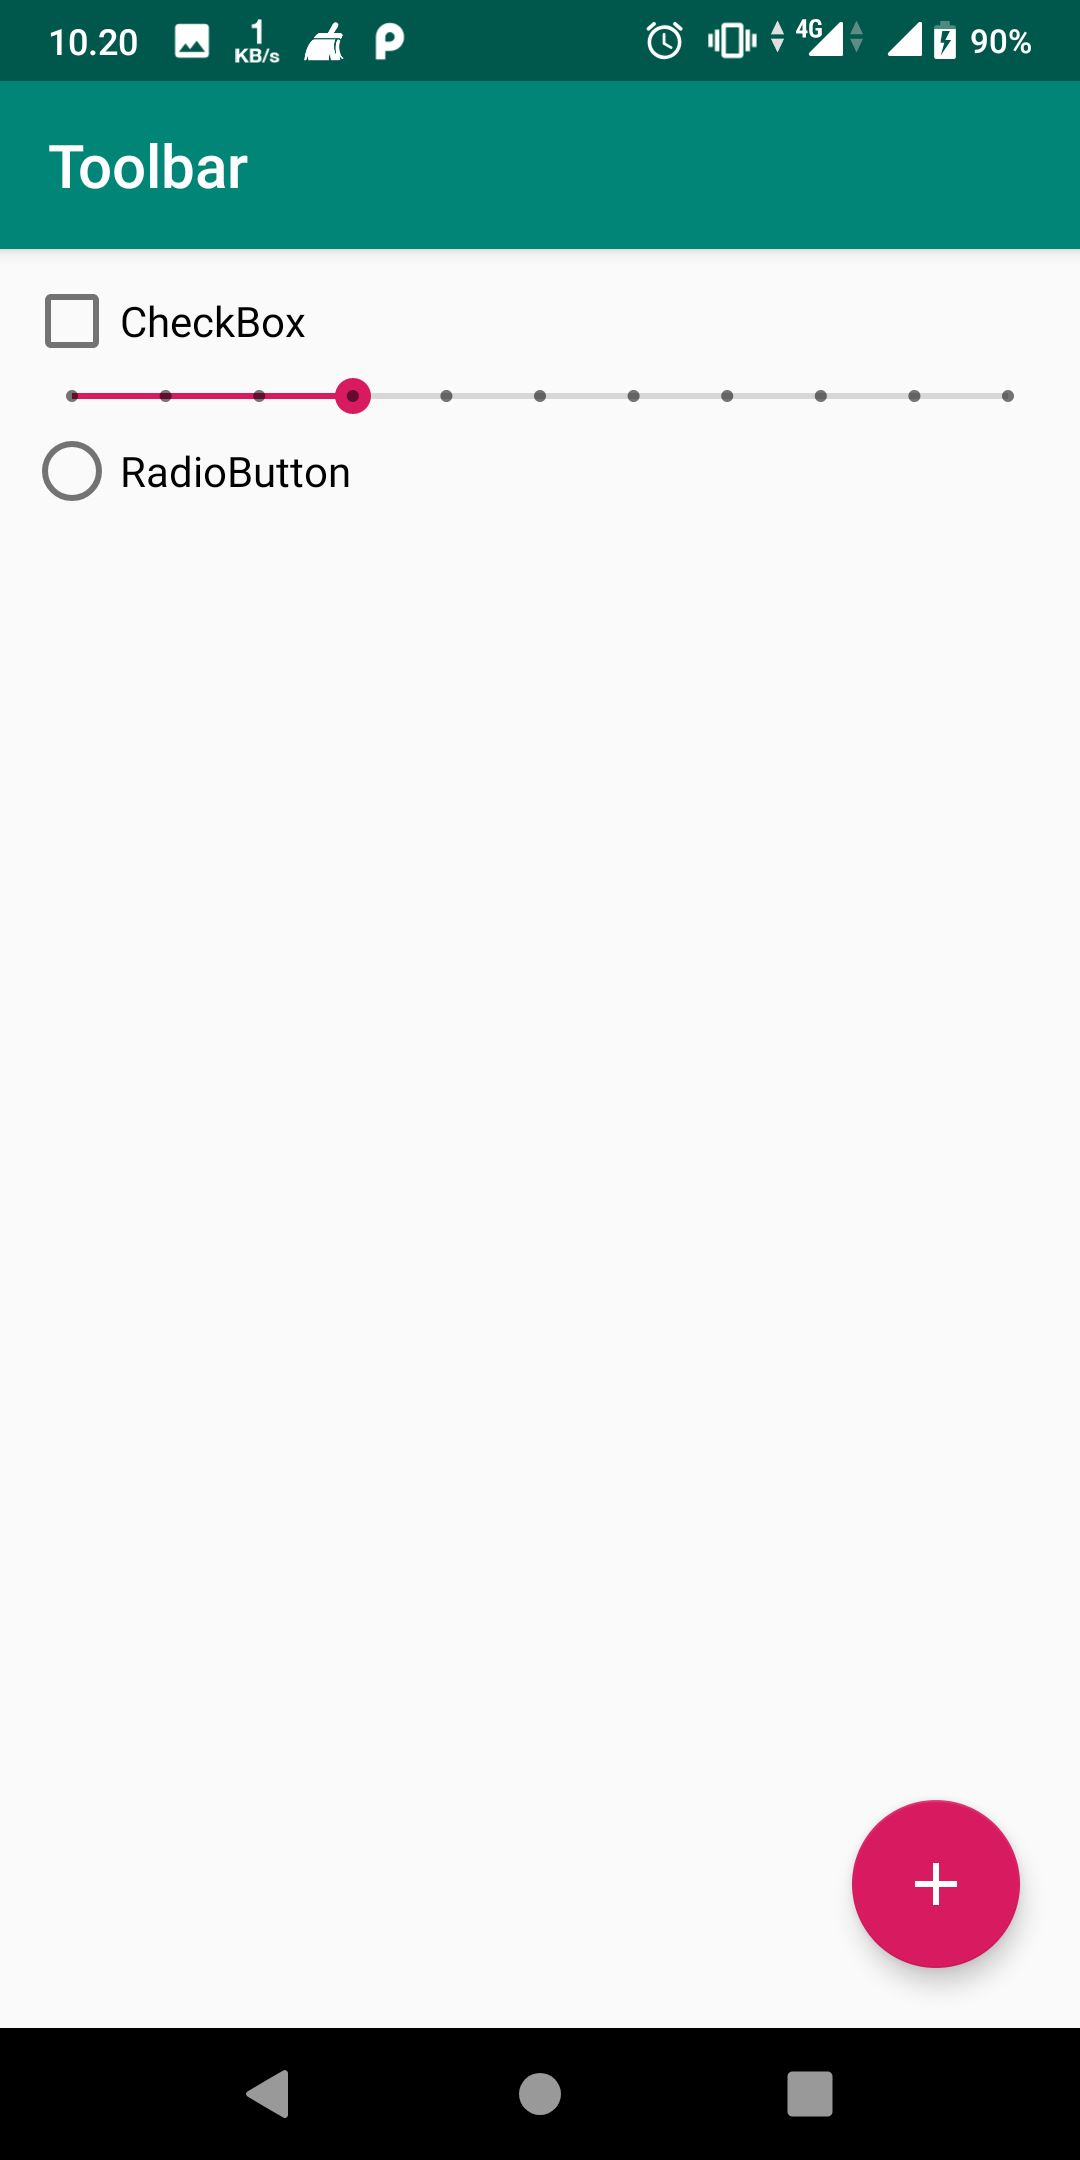checkBox: (28, 282, 320, 361)
floatingButton: (854, 1799, 1025, 1970)
radioButton: (39, 441, 366, 501)
slider: (51, 373, 1044, 422)
toolbar: (6, 80, 1079, 241)
